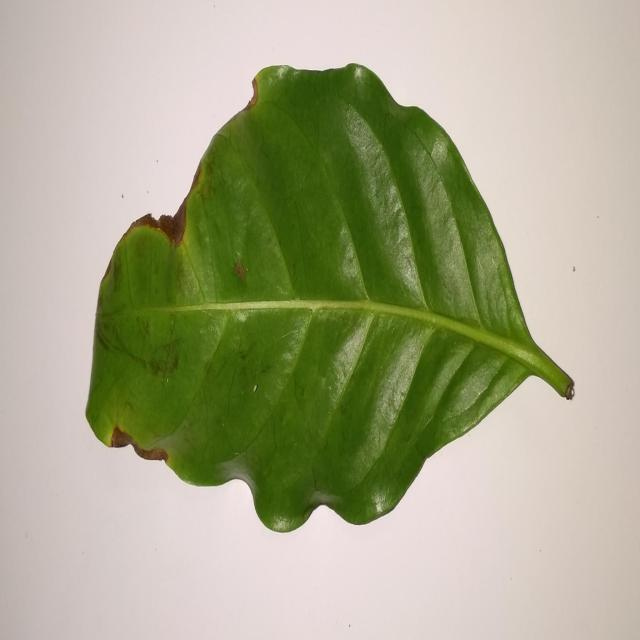Enfermedad-Antracnosis: (84, 62, 575, 536)
